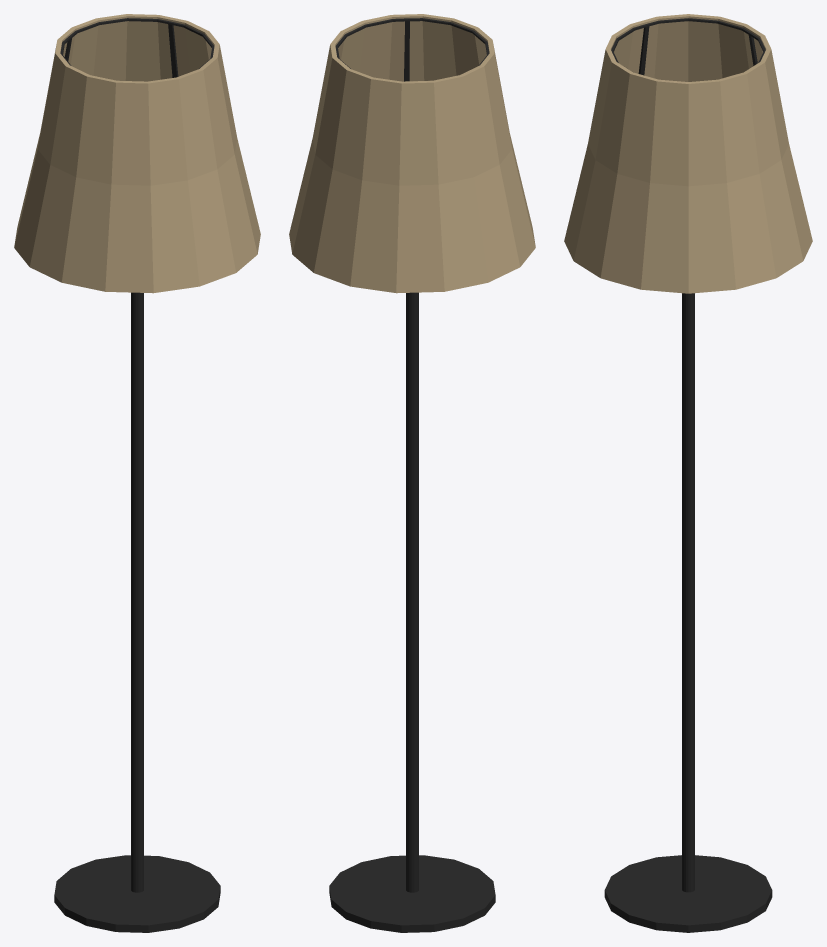
The model's file is Lamp_Tall_2.fbx.
3 views of the same model, side by side, from view 1: azimuth 30°, elevation 25°; view 2: azimuth 150°, elevation 25°; view 3: azimuth 270°, elevation 25° (orthographic).
Parts seen in each view (by area): view 1: Lamp2; view 2: Lamp2; view 3: Lamp2.
Boxes of the visible parts, box(x1,y1,x2,y2) form: Lamp2: box(14, 14, 260, 932); Lamp2: box(289, 14, 535, 932); Lamp2: box(564, 14, 812, 932).
Bounding box in the file's own units: 161 × 607 × 161.
